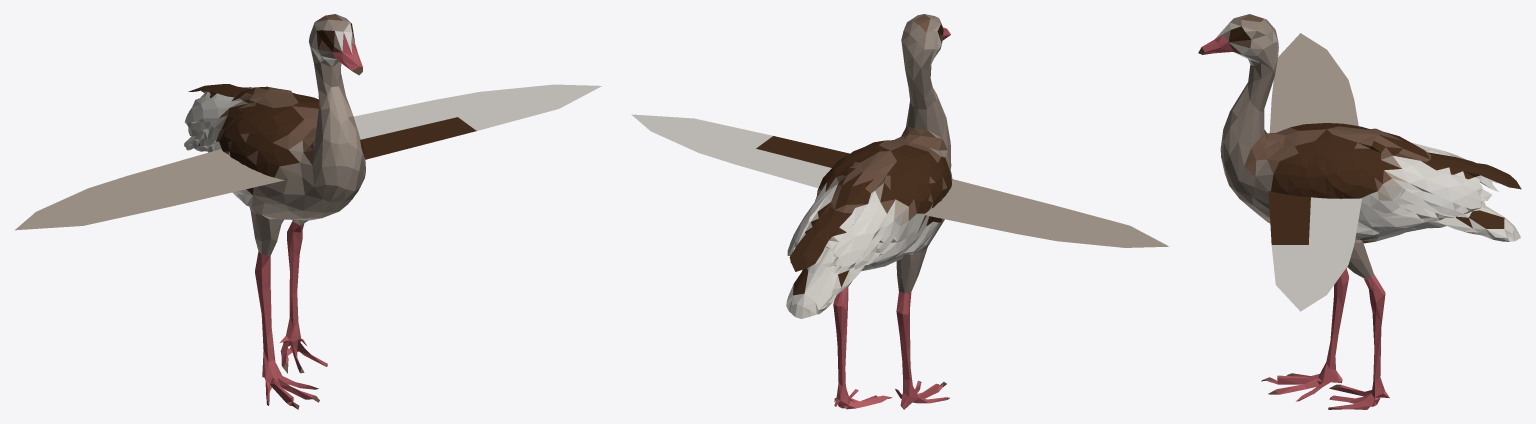
Rendered from alopochen_aegyptiaca.glb.
3 renders of one model, left to right at view 1: azimuth 30°, elevation 25°; view 2: azimuth 150°, elevation 25°; view 3: azimuth 270°, elevation 25°, orthographic. The views are drawn at different scales.
Visible parts, largest first — view 1: lod0; view 2: lod0; view 3: lod0.
Boxes of the visible parts, left/top/right/bottom form: lod0: left=15, top=14, right=601, bottom=409; lod0: left=631, top=14, right=1168, bottom=409; lod0: left=1198, top=14, right=1521, bottom=409.
Size of what is drawn, in the model's own units: 1.21 by 0.772 by 0.5935.
